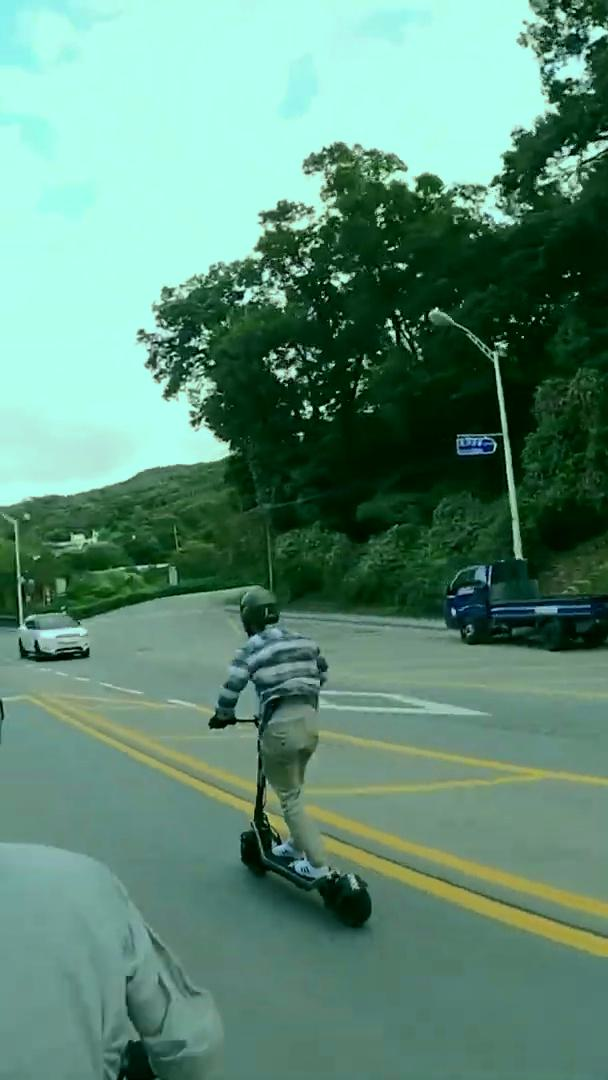helmet: (207, 584, 375, 927)
